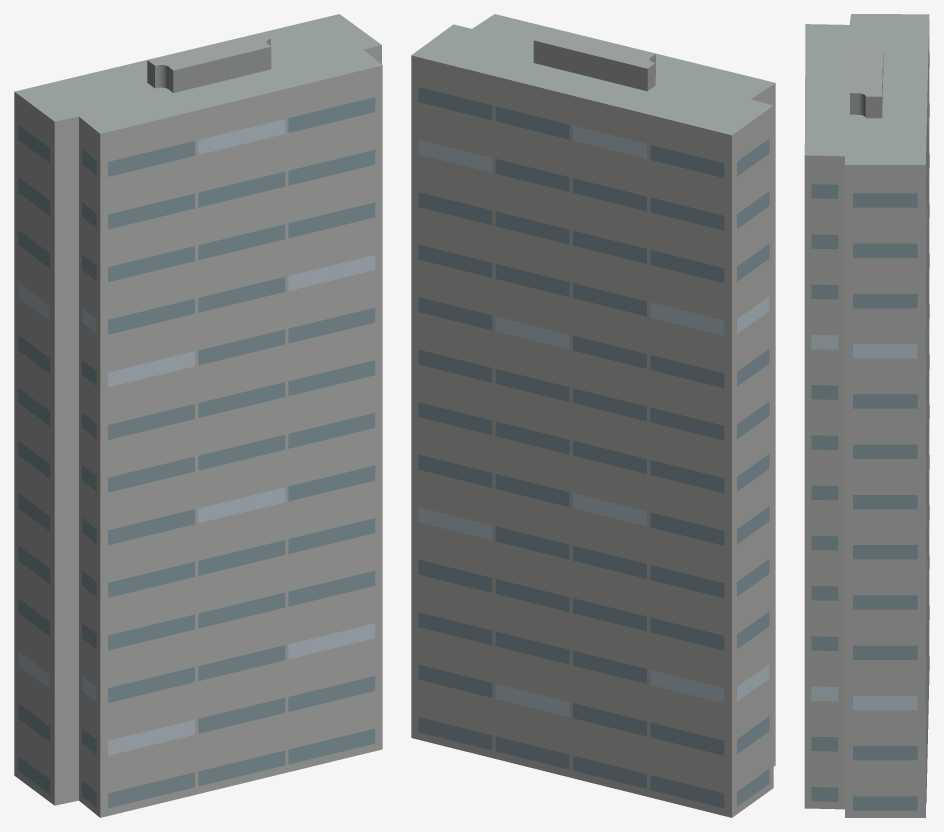
File: fallback-gangdong-lotte-castle-first-132.glb
3 renders of one model, left to right at view 1: azimuth 30°, elevation 25°; view 2: azimuth 150°, elevation 25°; view 3: azimuth 270°, elevation 25°, orthographic. The views are drawn at different scales.
Visible parts, largest first — view 1: fallback-gangdong-lotte-castle-first-132; view 2: fallback-gangdong-lotte-castle-first-132; view 3: fallback-gangdong-lotte-castle-first-132.
Boxes of the visible parts, left/top/right/bottom form: fallback-gangdong-lotte-castle-first-132: left=14, top=14, right=382, bottom=817; fallback-gangdong-lotte-castle-first-132: left=411, top=14, right=775, bottom=817; fallback-gangdong-lotte-castle-first-132: left=804, top=14, right=929, bottom=817.
Size of the model in its own units: 36.06 by 75 by 12.63.
